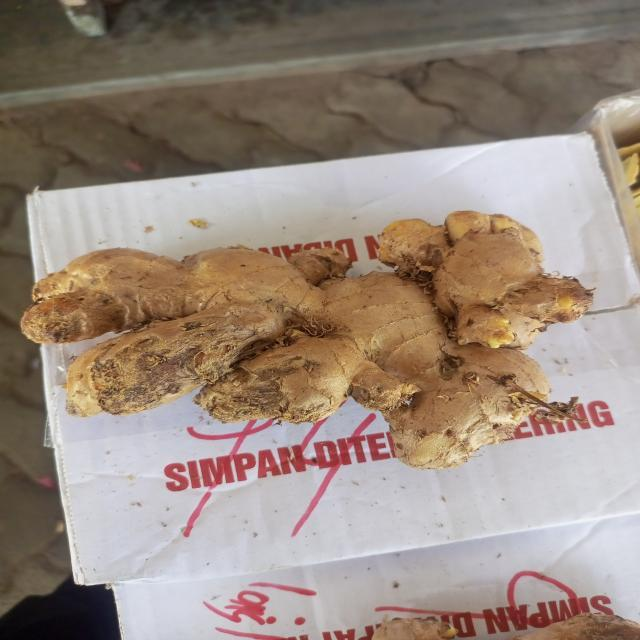ginger: (42, 216, 544, 454)
